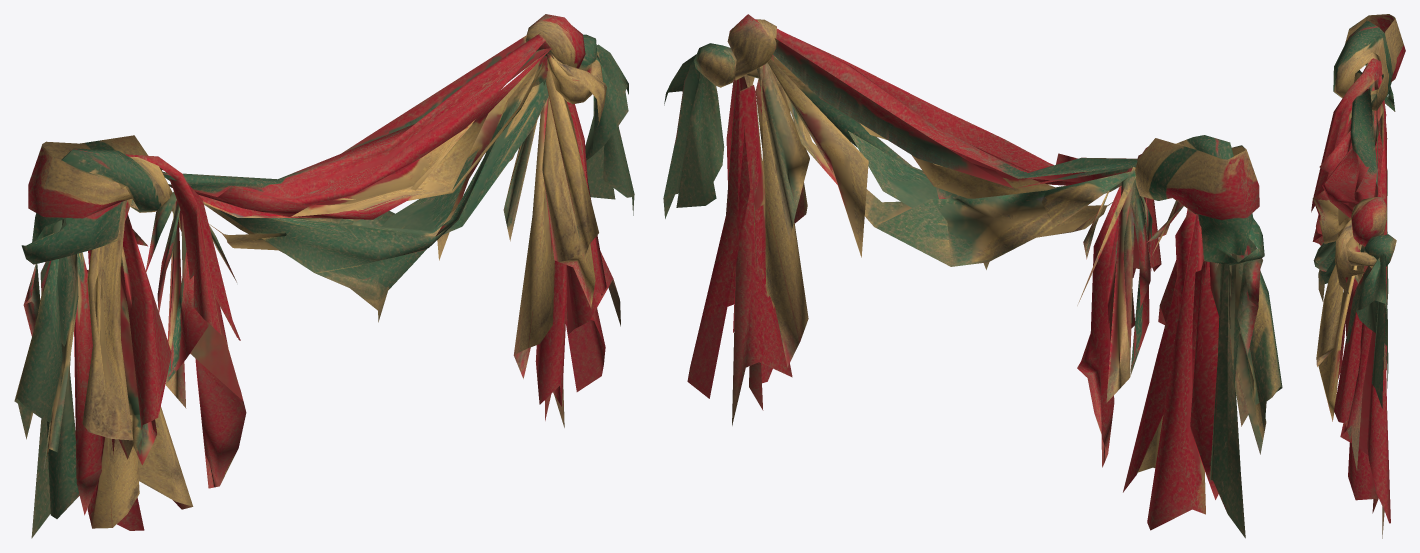
Rendered from Meshy_AI_Tattered_Festival_Drapes_20261028_texture.fbx.
The picture shows the model from 3 angles, left to right: view 1: azimuth 30°, elevation 25°; view 2: azimuth 150°, elevation 25°; view 3: azimuth 270°, elevation 25°; orthographic projection. The views are drawn at different scales.
Visible parts, largest first — view 1: Mesh_0; view 2: Mesh_0; view 3: Mesh_0.
Part boxes in pixels (x1=…): Mesh_0: x1=14, y1=14, x2=634, y2=538; Mesh_0: x1=663, y1=14, x2=1282, y2=538; Mesh_0: x1=1311, y1=14, x2=1405, y2=538.
Bounding box in the file's own units: 95.85 × 61.52 × 15.82.
Materials: 1 (1 with a texture image).
